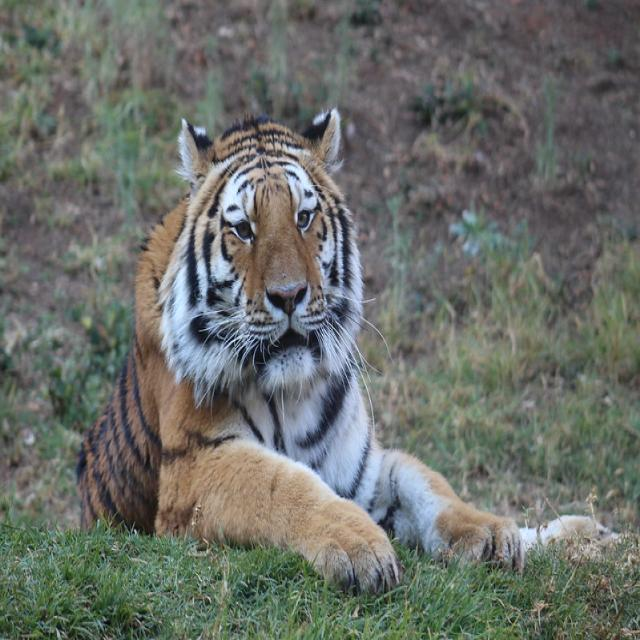Tiger: (78, 105, 520, 599)
